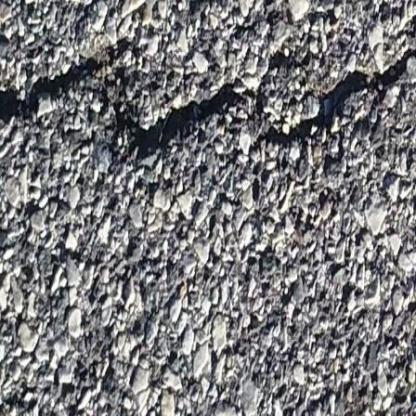Cracks: (0, 41, 416, 168)
